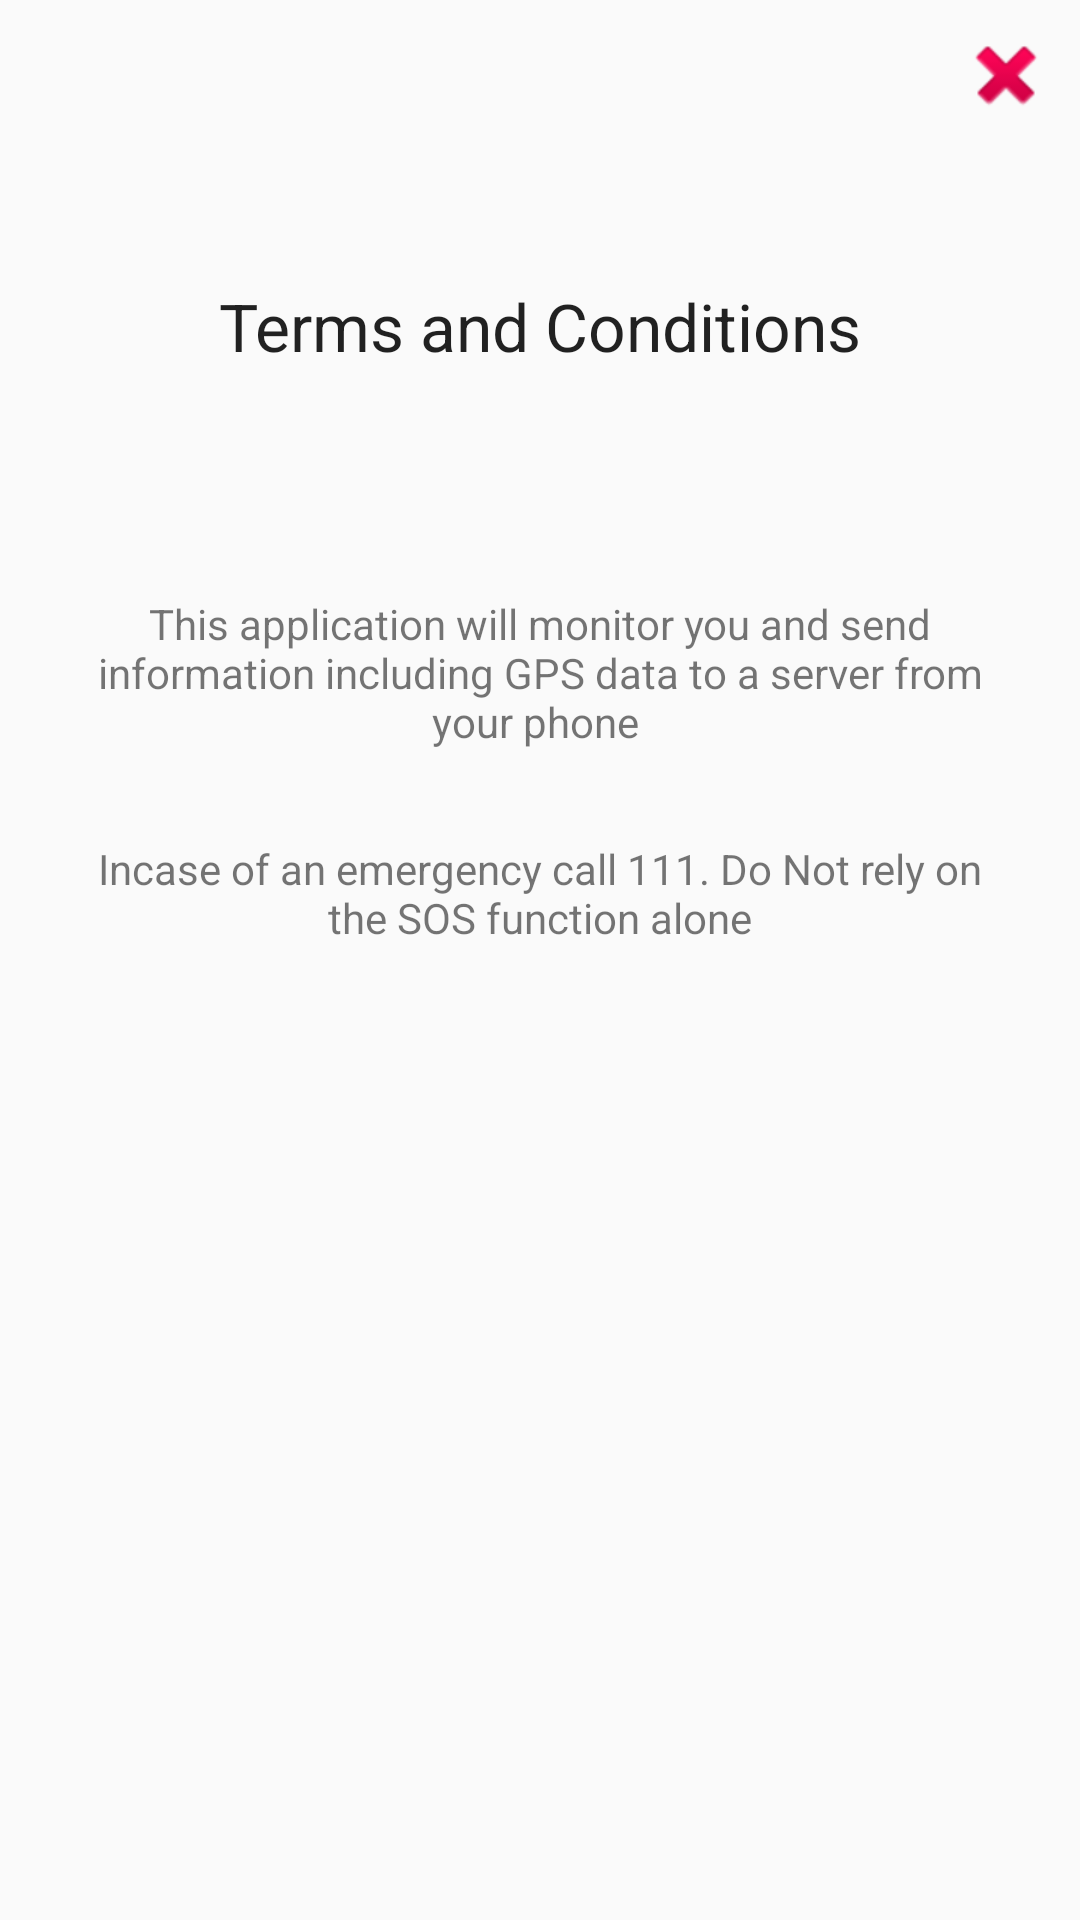

Icons on this 1080×1920 Android screen, each with its box as (x1, y1, x2, y2):
delete: (975, 46, 1037, 105)
